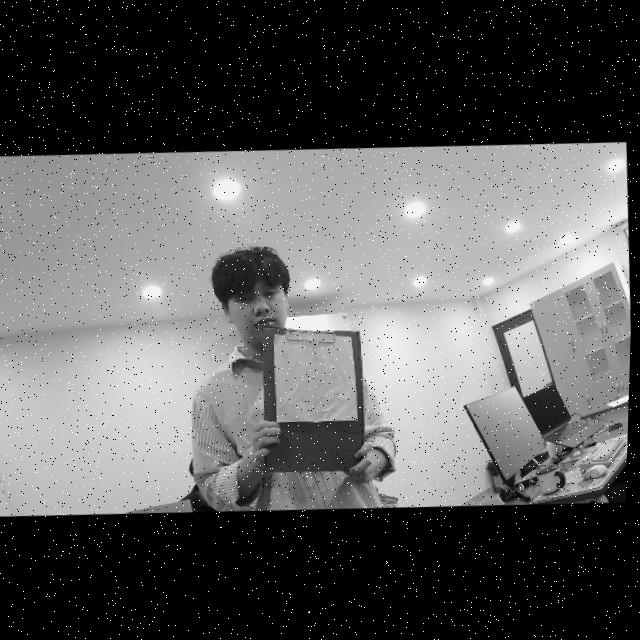face: (205, 246, 293, 345)
